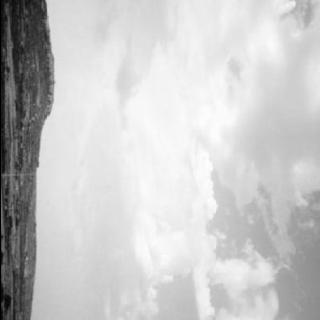Stratus: (54, 0, 320, 320)
